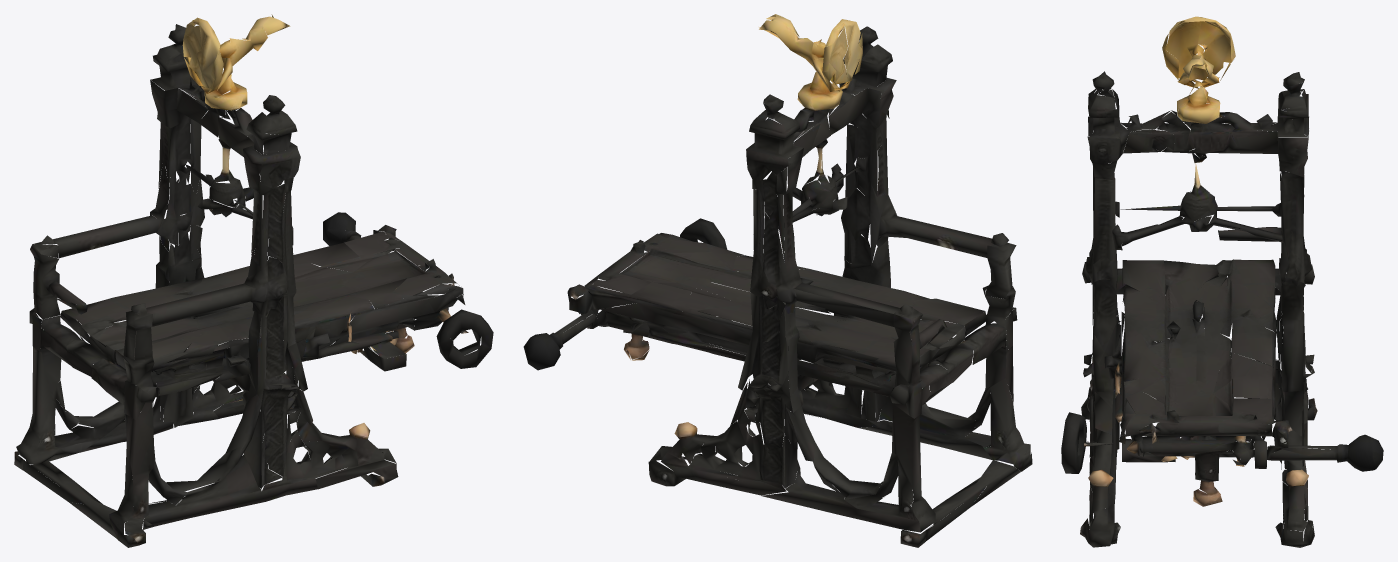
The model's file is cp_press.glb.
The picture shows the model from 3 angles, left to right: view 1: azimuth 30°, elevation 25°; view 2: azimuth 150°, elevation 25°; view 3: azimuth 270°, elevation 25°; orthographic projection.
Visible parts, largest first — view 1: tripo_node_fc1fafff-3585-4ed1-a27e-07780ba8a4c1; view 2: tripo_node_fc1fafff-3585-4ed1-a27e-07780ba8a4c1; view 3: tripo_node_fc1fafff-3585-4ed1-a27e-07780ba8a4c1.
Boxes of the visible parts, x1,y1,x2,y2 form: tripo_node_fc1fafff-3585-4ed1-a27e-07780ba8a4c1: (14, 14, 493, 547); tripo_node_fc1fafff-3585-4ed1-a27e-07780ba8a4c1: (523, 14, 1032, 547); tripo_node_fc1fafff-3585-4ed1-a27e-07780ba8a4c1: (1061, 16, 1383, 547).
Bounding box in the file's own units: 0.8562 × 1 × 0.6322.
1 material, 1 textured.
